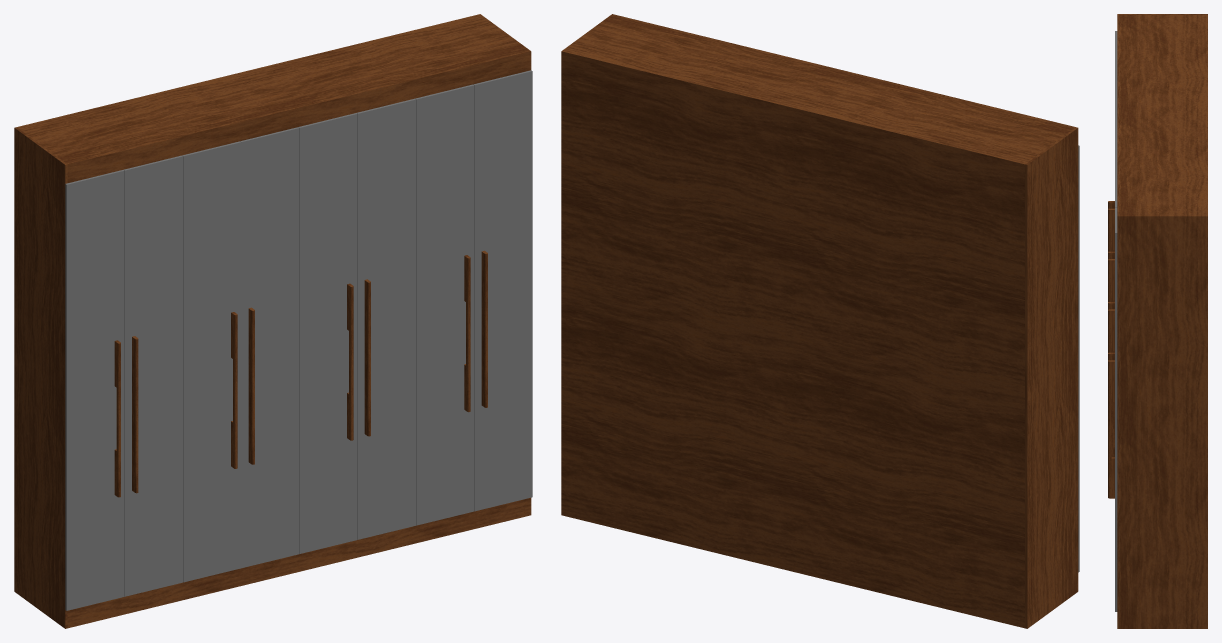
The model's file is guardaroupas001.glb.
The picture shows the model from 3 angles, left to right: view 1: azimuth 30°, elevation 25°; view 2: azimuth 150°, elevation 25°; view 3: azimuth 270°, elevation 25°; orthographic projection. The views are drawn at different scales.
Visible parts, largest first — view 1: Componente1\Sólido, Sólido1\Sólido1, Componente3\Sólido, Componente5\Sólido, Componente7\Sólido, Sólido1\Sólido1 (2), Componente8\Sólido, Componente2\Sólido, Componente4\Sólido, Componente6\Sólido, Guarda Roupas Moderno\Sólido11 (4), Guarda Roupas Moderno\Sólido11 (6) (+6 smaller); view 2: Componente1\Sólido, Sólido1\Sólido1 (2), Sólido1\Sólido1 (3), Sólido1\Sólido1; view 3: Sólido1\Sólido1 (3), Componente1\Sólido, Componente2\Sólido, Guarda Roupas Moderno\Sólido11 (6), Guarda Roupas Moderno\Sólido11 (4), Sólido11\Sólido11 (2), Guarda Roupas Moderno\Sólido11 (2).
Boxes of the visible parts, x1,y1,x2,y2 form: Componente1\Sólido: (17,14,528,628); Sólido1\Sólido1: (65,170,124,610); Componente3\Sólido: (415,84,474,525); Componente5\Sólido: (298,113,357,553); Componente7\Sólido: (182,141,241,582); Sólido1\Sólido1 (2): (14,127,67,628); Componente8\Sólido: (124,155,182,596); Componente2\Sólido: (473,70,532,511); Componente4\Sólido: (357,98,415,539); Componente6\Sólido: (240,127,299,568); Guarda Roupas Moderno\Sólido11 (4): (364,279,370,436); Guarda Roupas Moderno\Sólido11 (6): (481,250,487,407); Componente1\Sólido: (563,14,1075,628); Sólido1\Sólido1 (2): (1025,127,1078,628); Sólido1\Sólido1 (3): (561,14,614,515); Sólido1\Sólido1: (1078,145,1079,572); Sólido1\Sólido1 (3): (1117,215,1207,628); Componente1\Sólido: (1117,15,1207,215); Componente2\Sólido: (1115,208,1117,611); Guarda Roupas Moderno\Sólido11 (6): (1108,360,1114,498); Guarda Roupas Moderno\Sólido11 (4): (1108,309,1114,352); Sólido11\Sólido11 (2): (1108,208,1114,251); Guarda Roupas Moderno\Sólido11 (2): (1108,259,1114,301).
Size of the model in its own units: 2.78 by 2.65 by 0.5805.
Materials: 2 (1 with a texture image).
